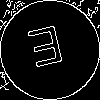E: (25, 25, 68, 77)
